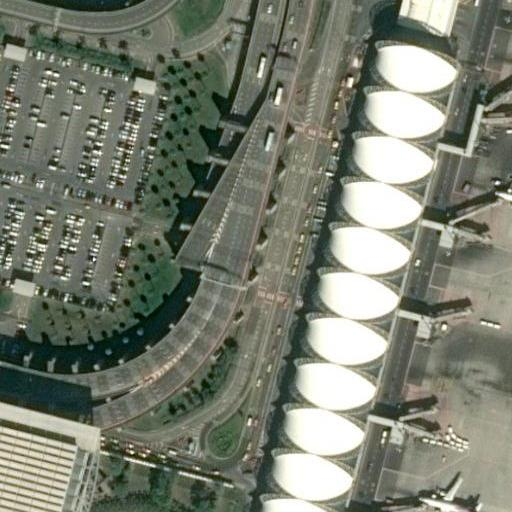Aircraft: (415, 466, 481, 512)
